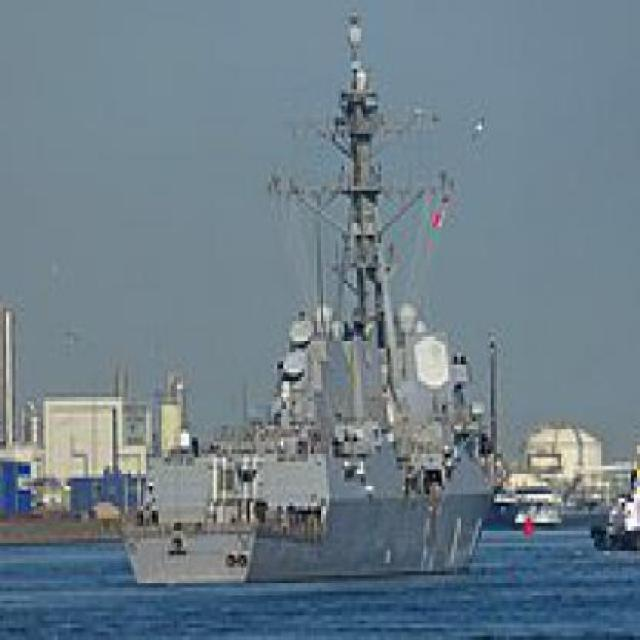warship2: (113, 1, 507, 601)
